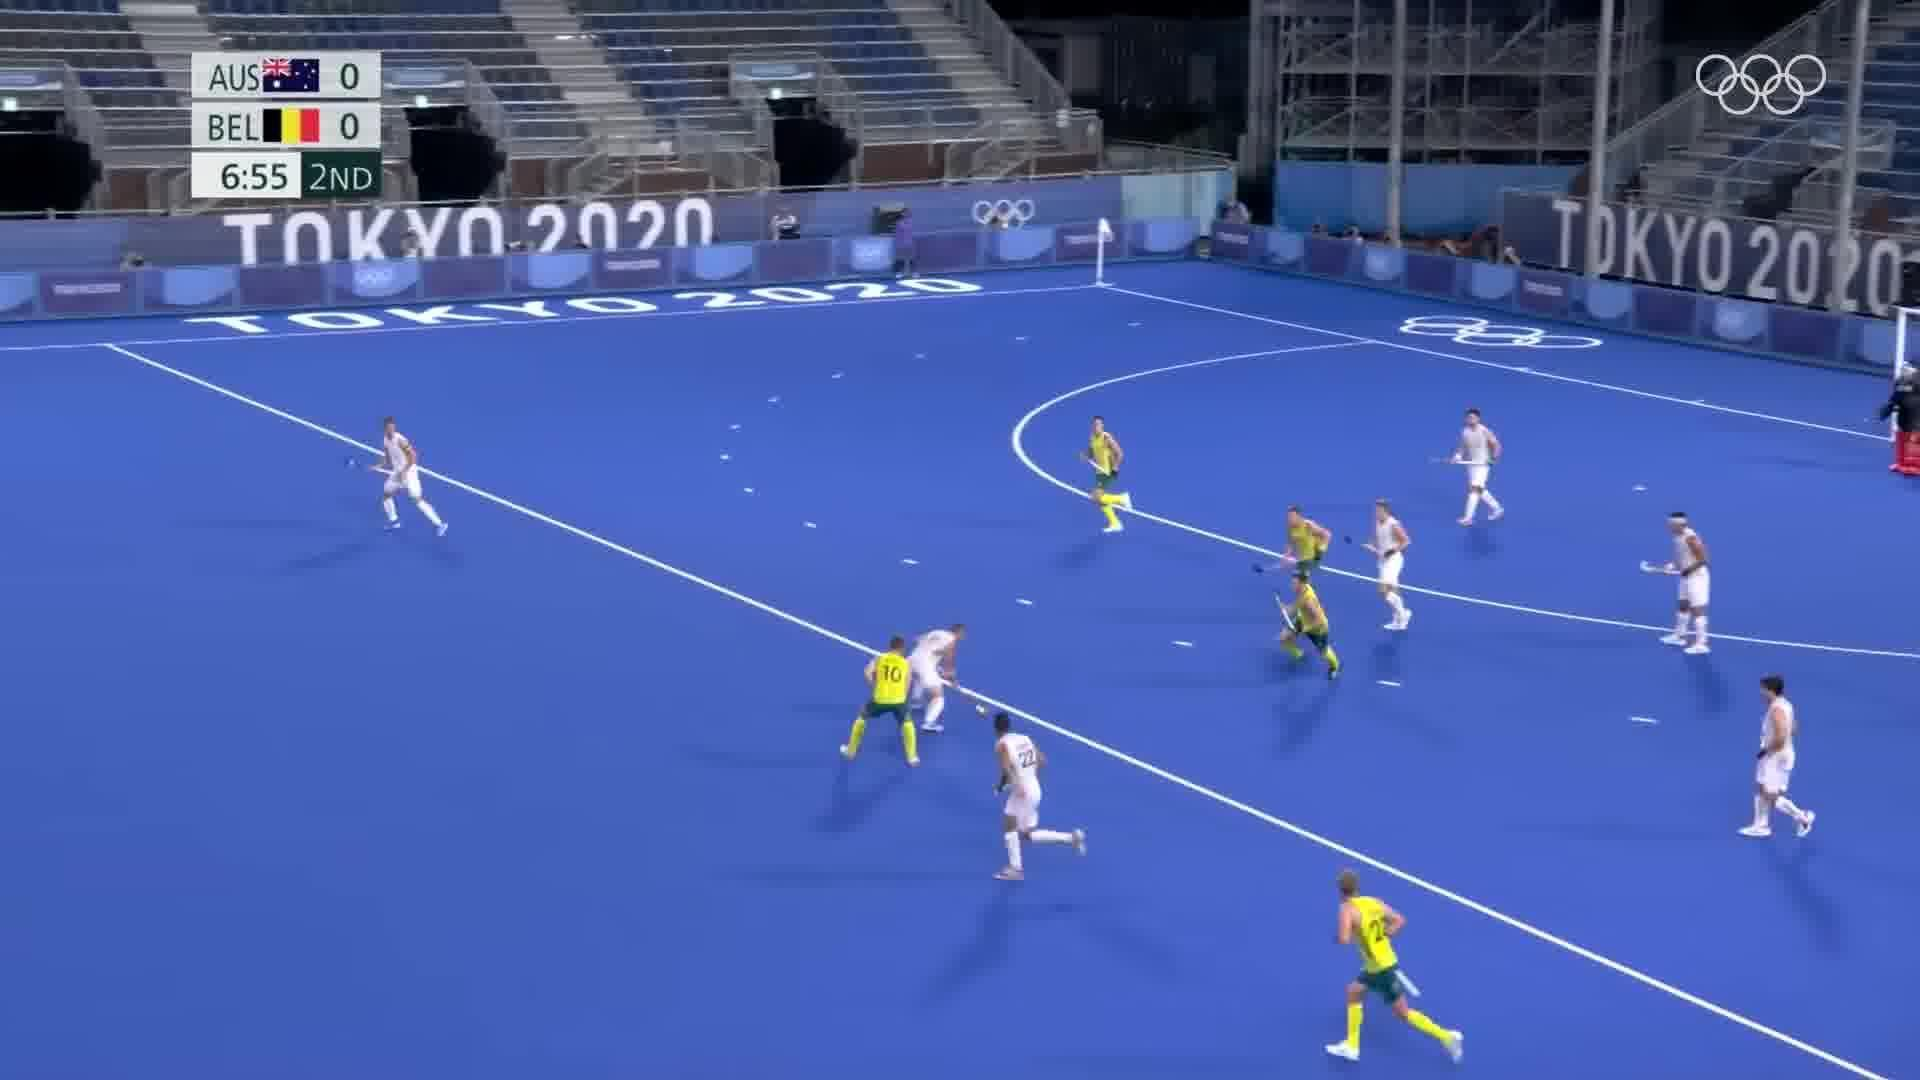ball: (972, 702, 992, 723)
